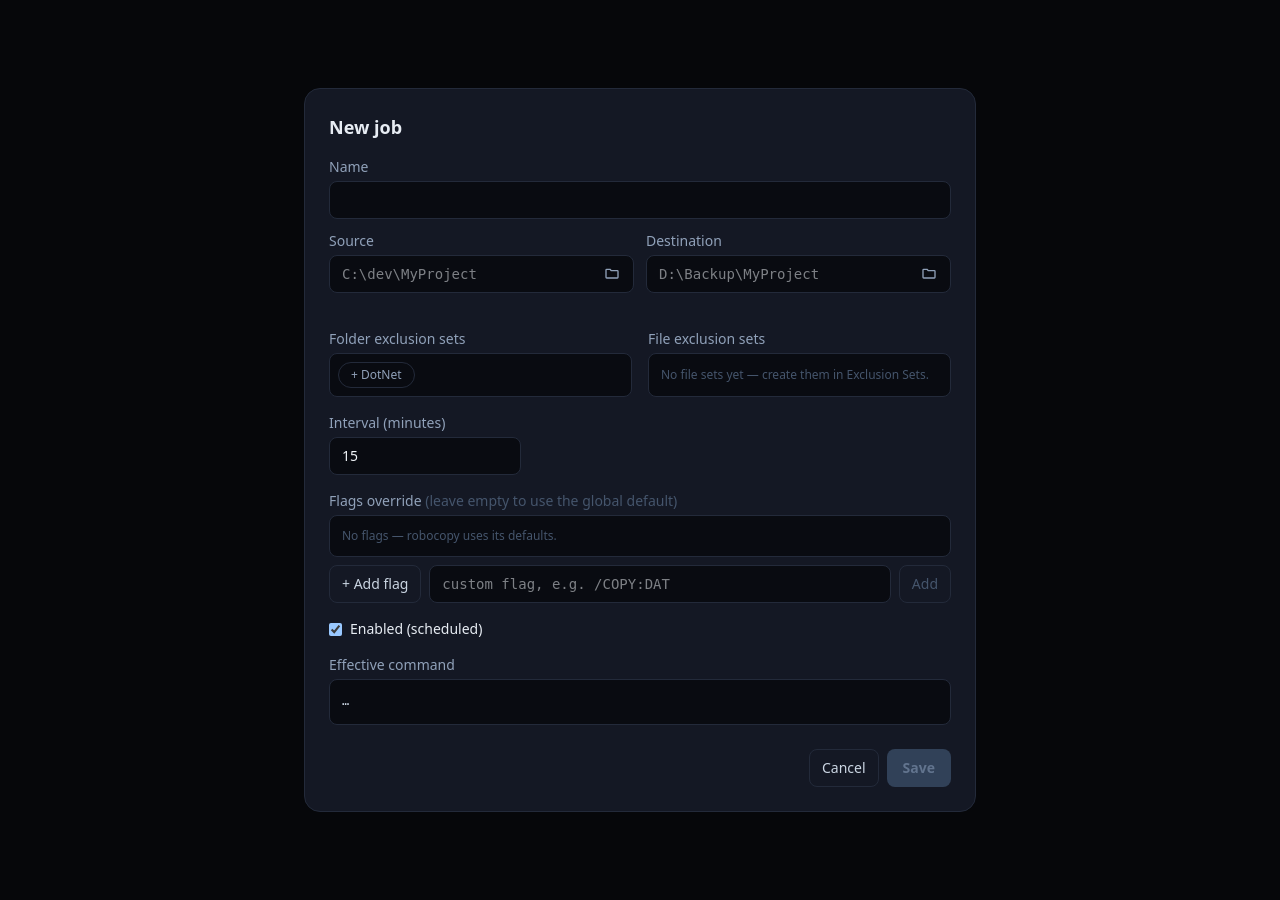
Test: JobEditor › shows Browse when available and fills the field from the picker
Click the button named "browse for source folder" at point(612, 274), box [594,259,630,289]
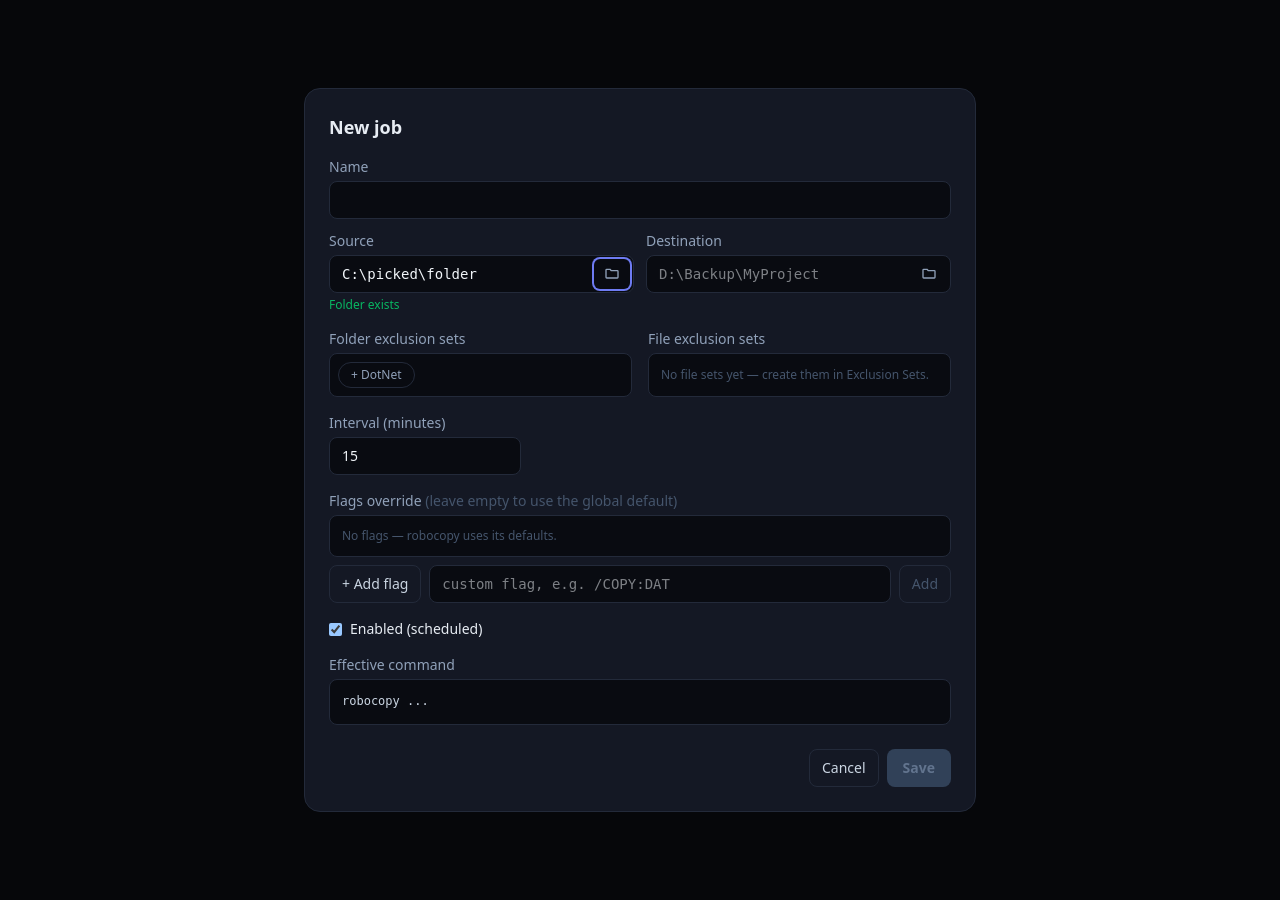
Check: the field labelled "Source" holds "C:\\picked\\folder", box [329,255,634,293]
